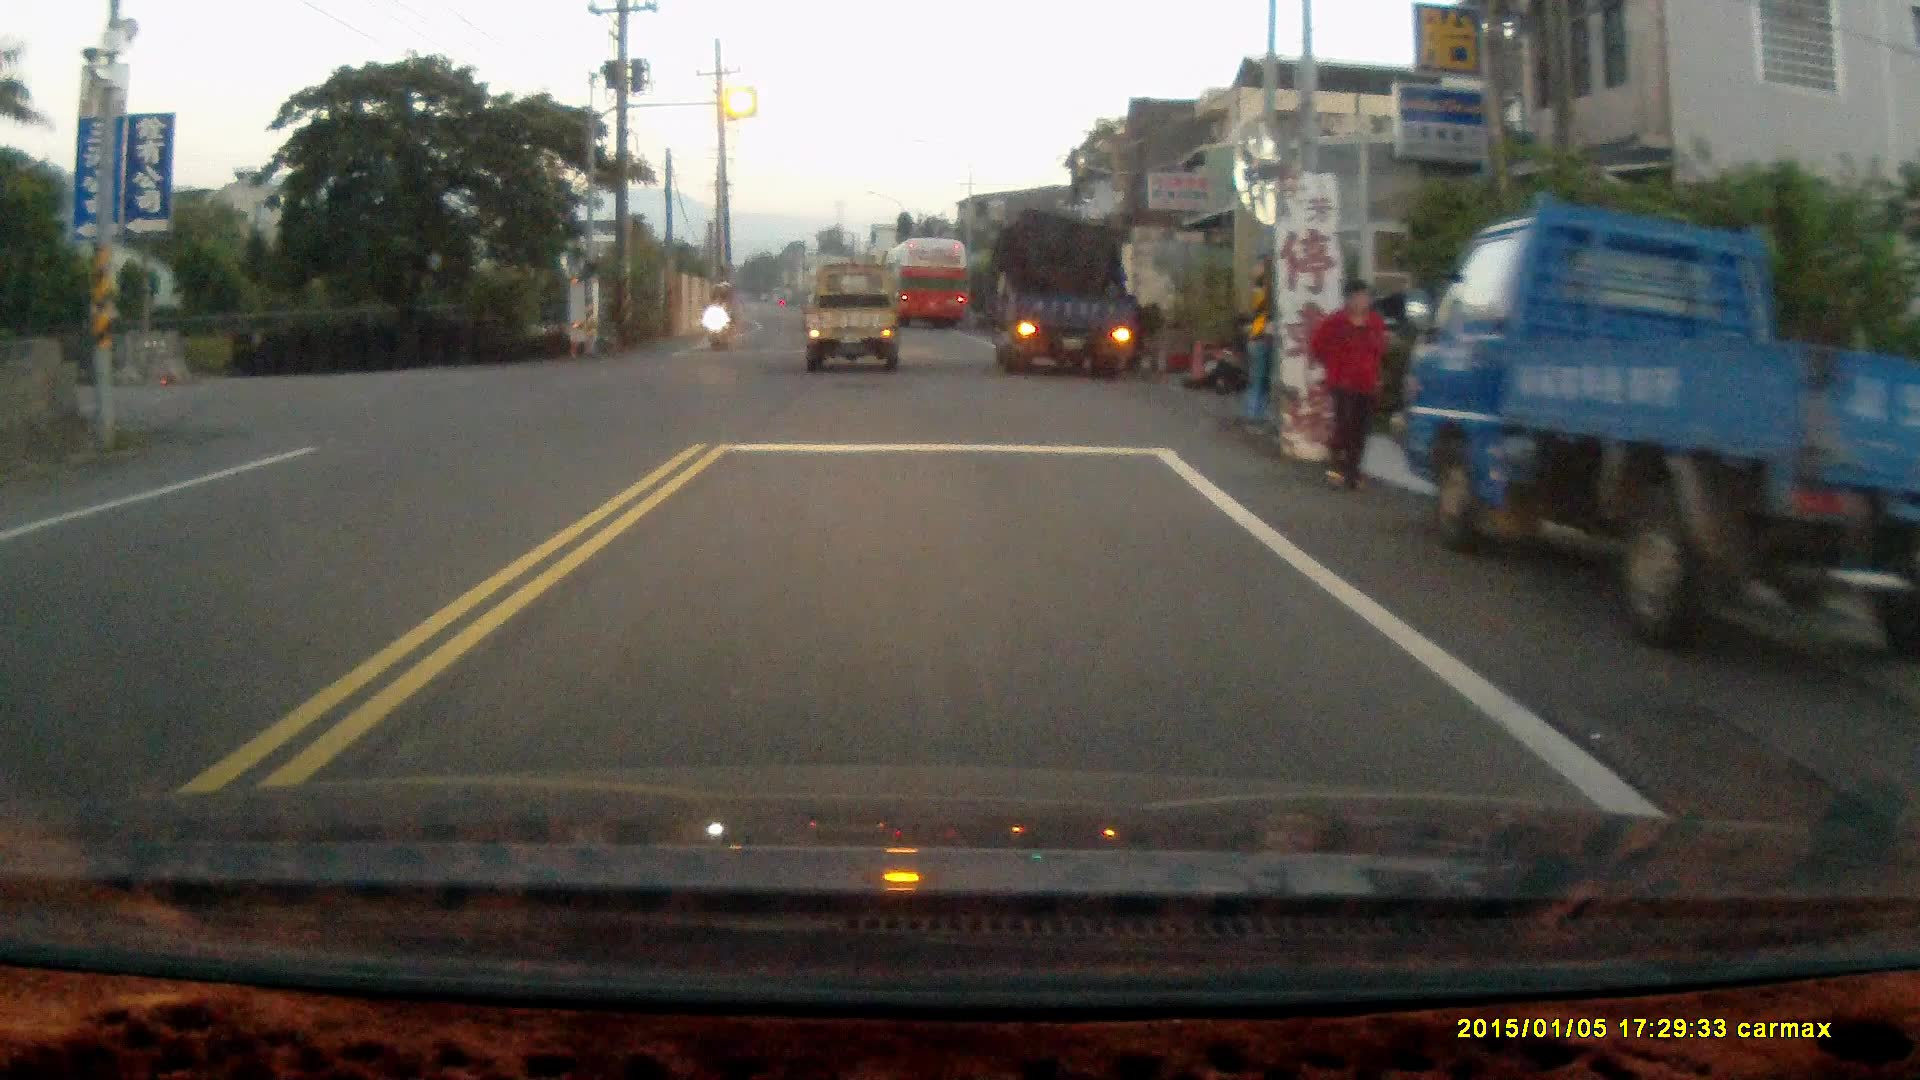pedestrian: (1308, 275, 1389, 497)
rider: (702, 279, 732, 348)
vehicle: (1402, 190, 1920, 634), (993, 210, 1157, 384), (809, 264, 907, 372), (889, 239, 973, 328)
